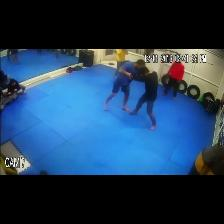person: (104, 60, 145, 111), (130, 67, 158, 129), (163, 62, 184, 99), (115, 49, 128, 76), (7, 79, 25, 98), (11, 48, 19, 61), (55, 49, 60, 58), (7, 49, 10, 60), (38, 49, 41, 54)
